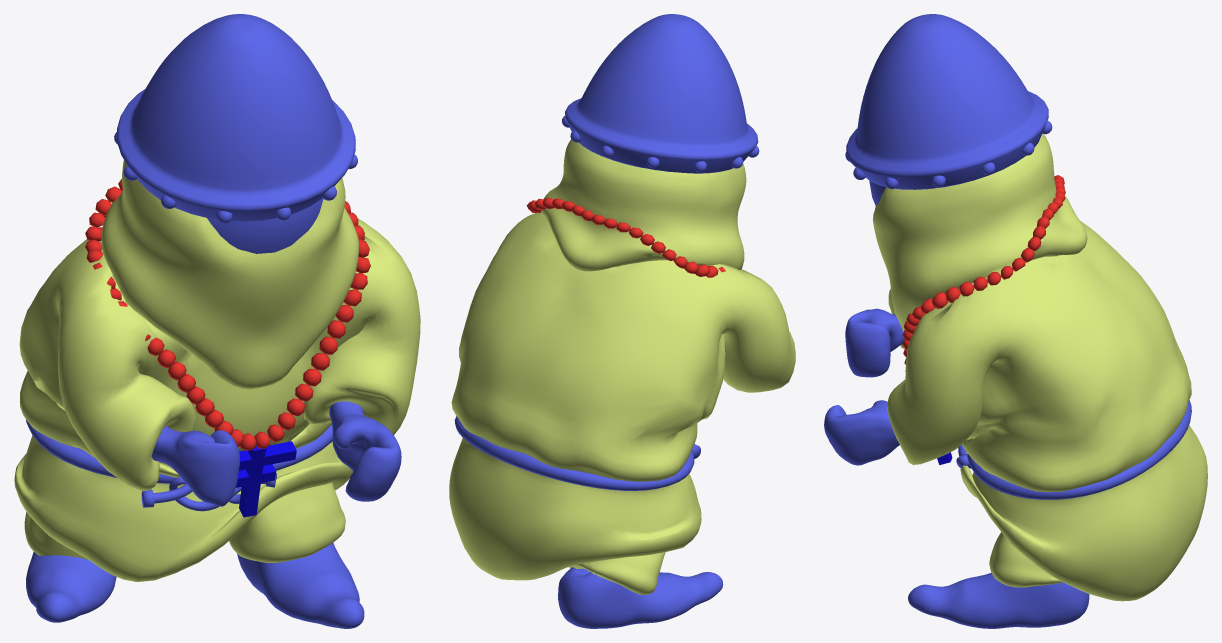
The model's file is Habits (3).fbx.
3 renders of one model, left to right at view 1: azimuth 30°, elevation 25°; view 2: azimuth 150°, elevation 25°; view 3: azimuth 270°, elevation 25°, orthographic. The views are drawn at different scales.
Visible parts, largest first — view 1: Cube.004; view 2: Cube.004; view 3: Cube.004.
Boxes of the visible parts, box(x1,y1,x2,y2) form: Cube.004: box(14, 14, 420, 628); Cube.004: box(449, 14, 795, 628); Cube.004: box(824, 14, 1207, 628).
Size of the model in its own units: 816 by 1464 by 916.
